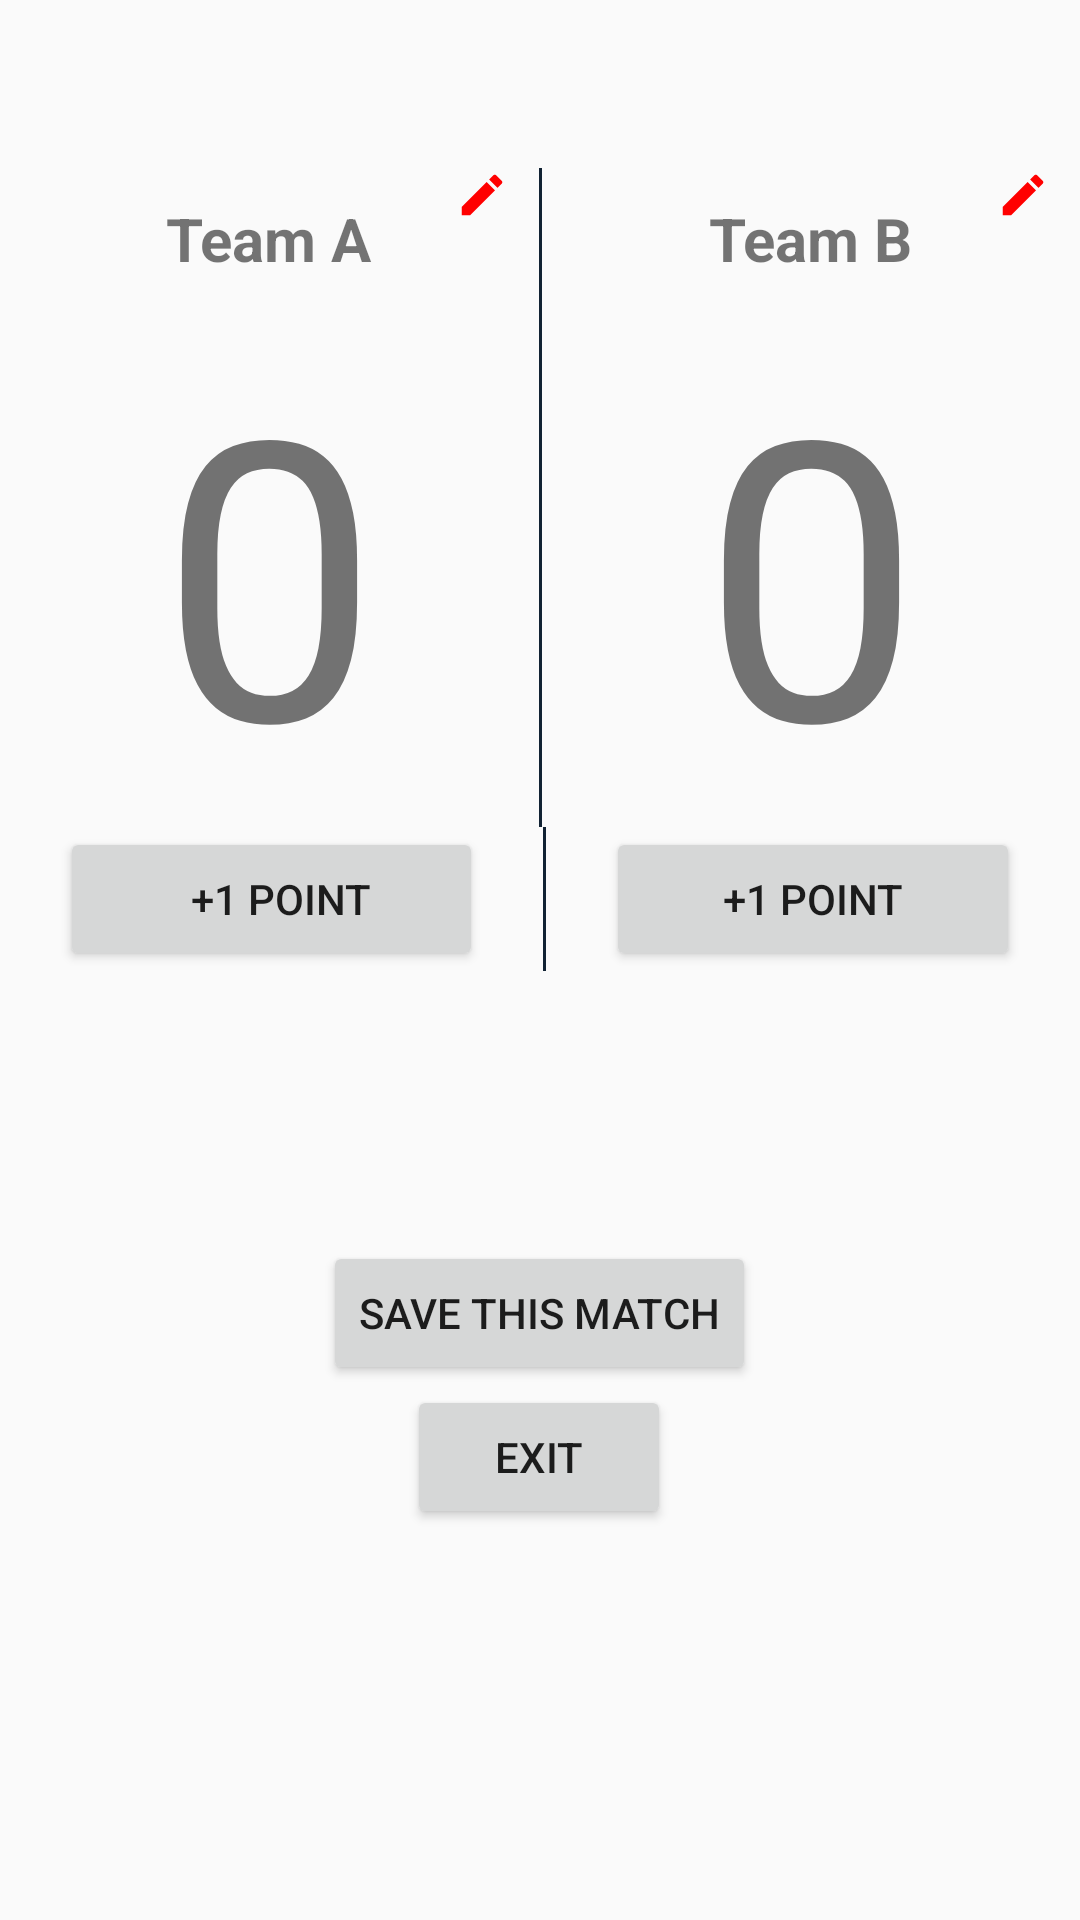

Where to tap for icons on this 1080px x 1920px app screen, as [x,y]:
edit pen: [482,195], [1023,195]
